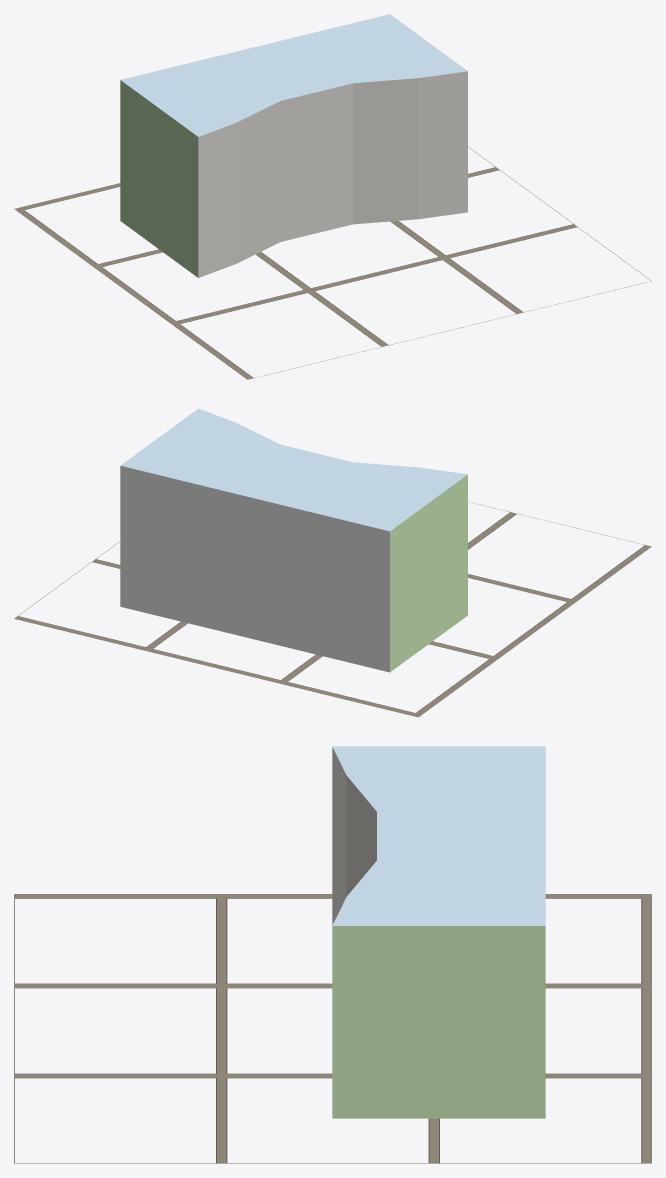
File: Wall_Straight_Deformed_Concave_2x2_Mid.glb
The picture shows the model from 3 angles, top to bottom: view 1: azimuth 30°, elevation 25°; view 2: azimuth 150°, elevation 25°; view 3: azimuth 270°, elevation 25°; orthographic projection. The views are drawn at different scales.
Visible parts, largest first — view 1: Wall_Straight_Deformed_Concave_2x2_Mid, Floor; view 2: Wall_Straight_Deformed_Concave_2x2_Mid, Floor; view 3: Wall_Straight_Deformed_Concave_2x2_Mid, Floor.
Boxes of the visible parts, <box> form: Wall_Straight_Deformed_Concave_2x2_Mid: <box>120,14,467,277</box>; Floor: <box>14,147,651,379</box>; Wall_Straight_Deformed_Concave_2x2_Mid: <box>120,408,467,672</box>; Floor: <box>14,501,651,717</box>; Wall_Straight_Deformed_Concave_2x2_Mid: <box>332,746,545,1118</box>; Floor: <box>14,894,651,1163</box>.
Bounding box in the file's own units: 300 × 100 × 300.
5 materials, 1 textured.
